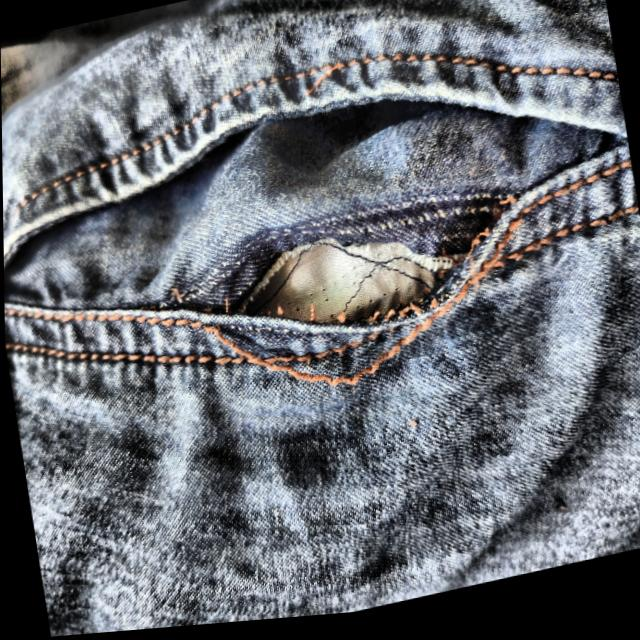seam: (187, 179, 538, 389)
